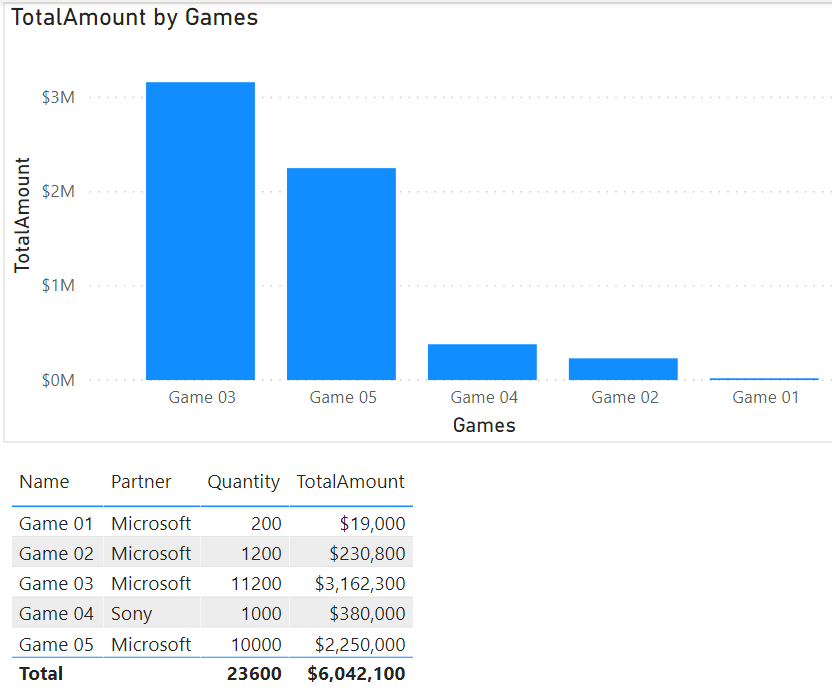

Layout of this report page (visuals, bound fields, positions):
{"tool":"powerbi","page":{"name":"Page 1","canvas":[1280,720],"ordinal":0},"visuals":[{"type":"clusteredColumnChart","fields":{"Y":["Sum(gameDW FactSales.TotalAmount)"],"Category":["gameDW DimGame.Name"]},"box":[10.4,0,614.6,306.8],"z":0},{"type":"tableEx","fields":{"Values":["gameDW DimGame.Name","gameDW DimGame.Partner","Sum(gameDW FactSales.Quantity)","Sum(gameDW FactSales.TotalAmount)"]},"box":[10,317,615,307],"z":1}]}

Visuals, with their boxes on the page's 1280x720 design canvas (x1, y1, x2, y2). These are canvas units, not pixel positions in the 832x694 screenshot, which may show the page scaled, cropped or inside an application window:
clusteredColumnChart - Sum(gameDW FactSales.TotalAmount) x gameDW DimGame.Name: bbox=(10, 0, 625, 307)
tableEx - gameDW DimGame.Name x gameDW DimGame.Partner: bbox=(10, 317, 625, 624)
